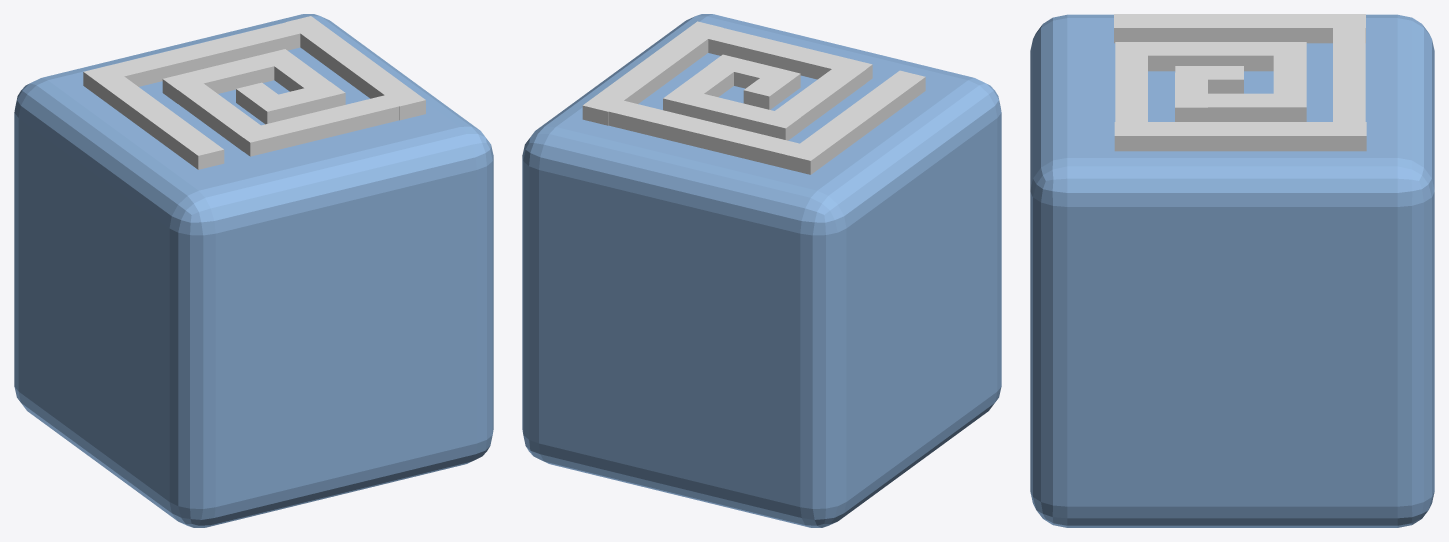
The model's file is stunPolje.fbx.
The picture shows the model from 3 angles, left to right: view 1: azimuth 30°, elevation 25°; view 2: azimuth 150°, elevation 25°; view 3: azimuth 270°, elevation 25°; orthographic projection. The views are drawn at different scales.
Visible parts, largest first — view 1: led, Cube.108, Cube.124, Cube.123, Cube.115, Cube.114, Cube.122, Cube.109, Cube.113, Cube.110; view 2: led, Cube.108, Cube.123, Cube.113, Cube.124, Cube.122, Cube.114, Cube.110, Cube.115, Cube.109; view 3: led, Cube.108, Cube.122, Cube.123, Cube.110, Cube.124, Cube.113, Cube.114, Cube.109, Cube.115.
Part boxes in pixels (x1,y1,x2,y2): led: (14,14,493,527); Cube.108: (124,33,425,155); Cube.124: (83,65,224,169); Cube.123: (84,22,299,82); Cube.115: (235,106,399,156); Cube.114: (163,73,243,151); Cube.122: (285,16,410,112); Cube.109: (265,86,345,120); Cube.113: (162,53,273,103); Cube.110: (265,49,335,91); led: (522,14,1001,527); Cube.108: (608,21,925,174); Cube.123: (608,101,824,168); Cube.113: (673,94,800,140); Cube.124: (785,77,925,174); Cube.122: (582,50,672,125); Cube.114: (760,69,866,130); Cube.110: (663,61,738,112); Cube.115: (798,54,872,82); Cube.109: (729,60,787,81); led: (1030,14,1434,527); Cube.108: (1114,14,1365,135); Cube.122: (1114,122,1366,151); Cube.123: (1333,14,1365,121); Cube.110: (1196,93,1306,121); Cube.124: (1217,14,1365,27); Cube.113: (1273,42,1306,93); Cube.114: (1189,42,1305,55); Cube.109: (1175,72,1207,121); Cube.115: (1115,42,1147,89).
Bounding box in the file's own units: 200 × 208 × 200.
